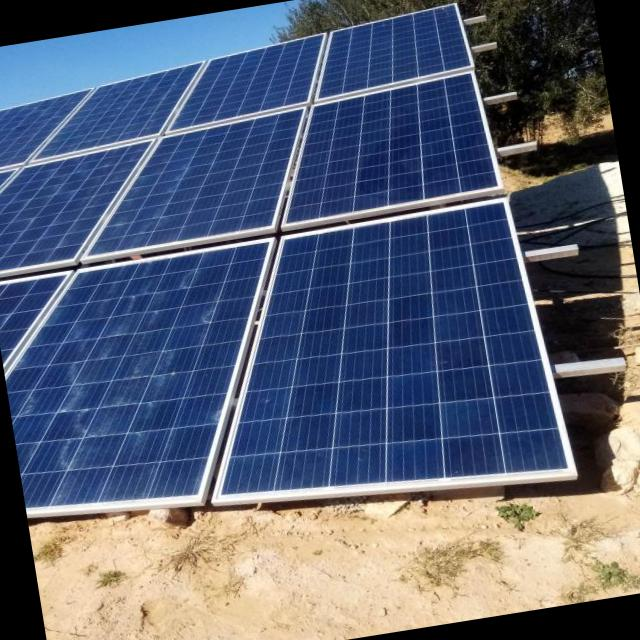faulty: (6, 246, 261, 507), (85, 114, 297, 254), (0, 141, 146, 271)
no faulty: (231, 202, 565, 493), (290, 77, 497, 220)
